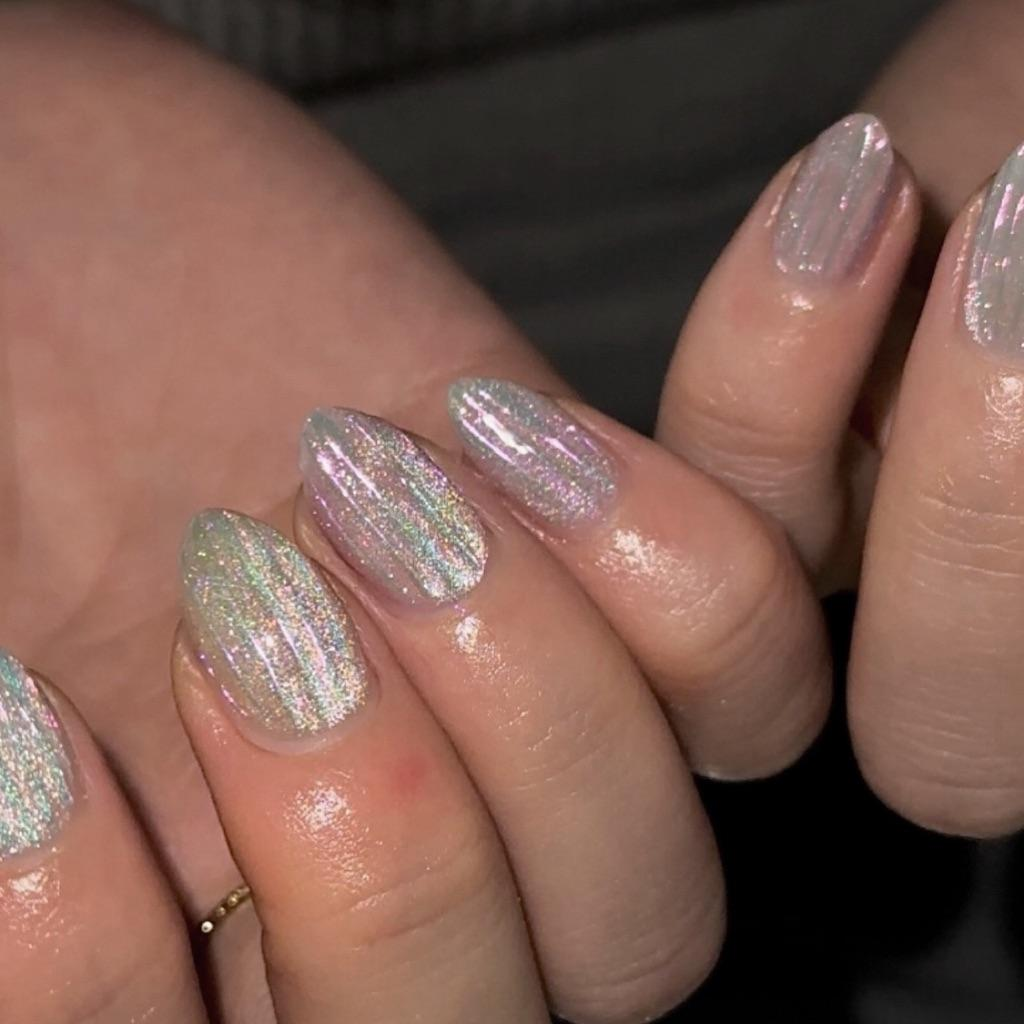nail: (652, 109, 923, 586), (845, 139, 1022, 840), (177, 505, 374, 754), (296, 403, 491, 610), (446, 374, 623, 541), (768, 109, 894, 284), (958, 139, 1022, 363)
